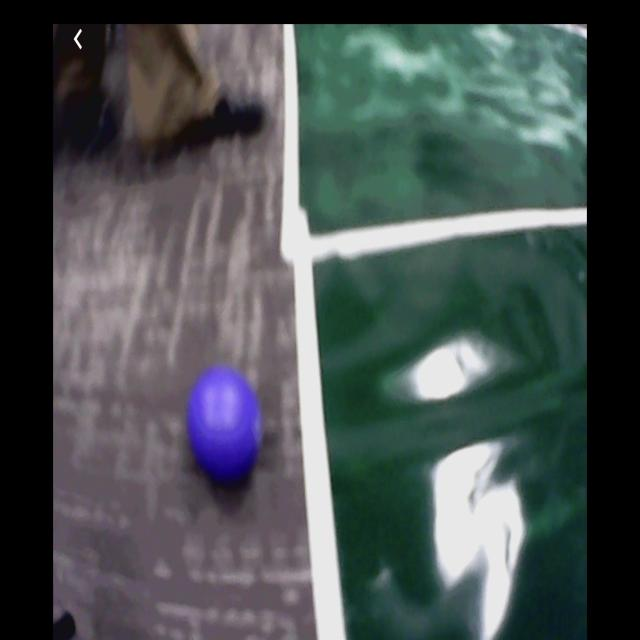ball: (189, 368, 265, 478)
